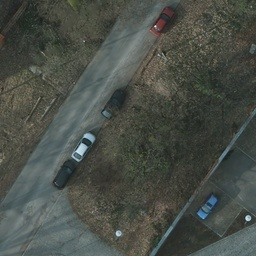car: (152, 6, 176, 37), (99, 91, 125, 119), (72, 132, 97, 161), (196, 192, 220, 221), (55, 156, 75, 190)
